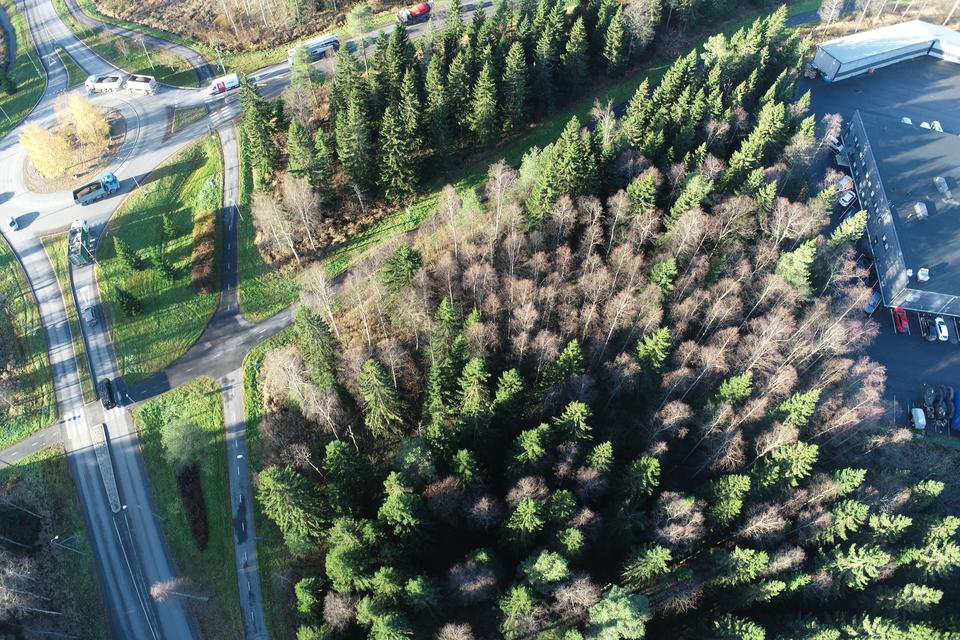intersection: (38, 356, 162, 482), (191, 69, 259, 159)
roundabout: (3, 47, 187, 271)
